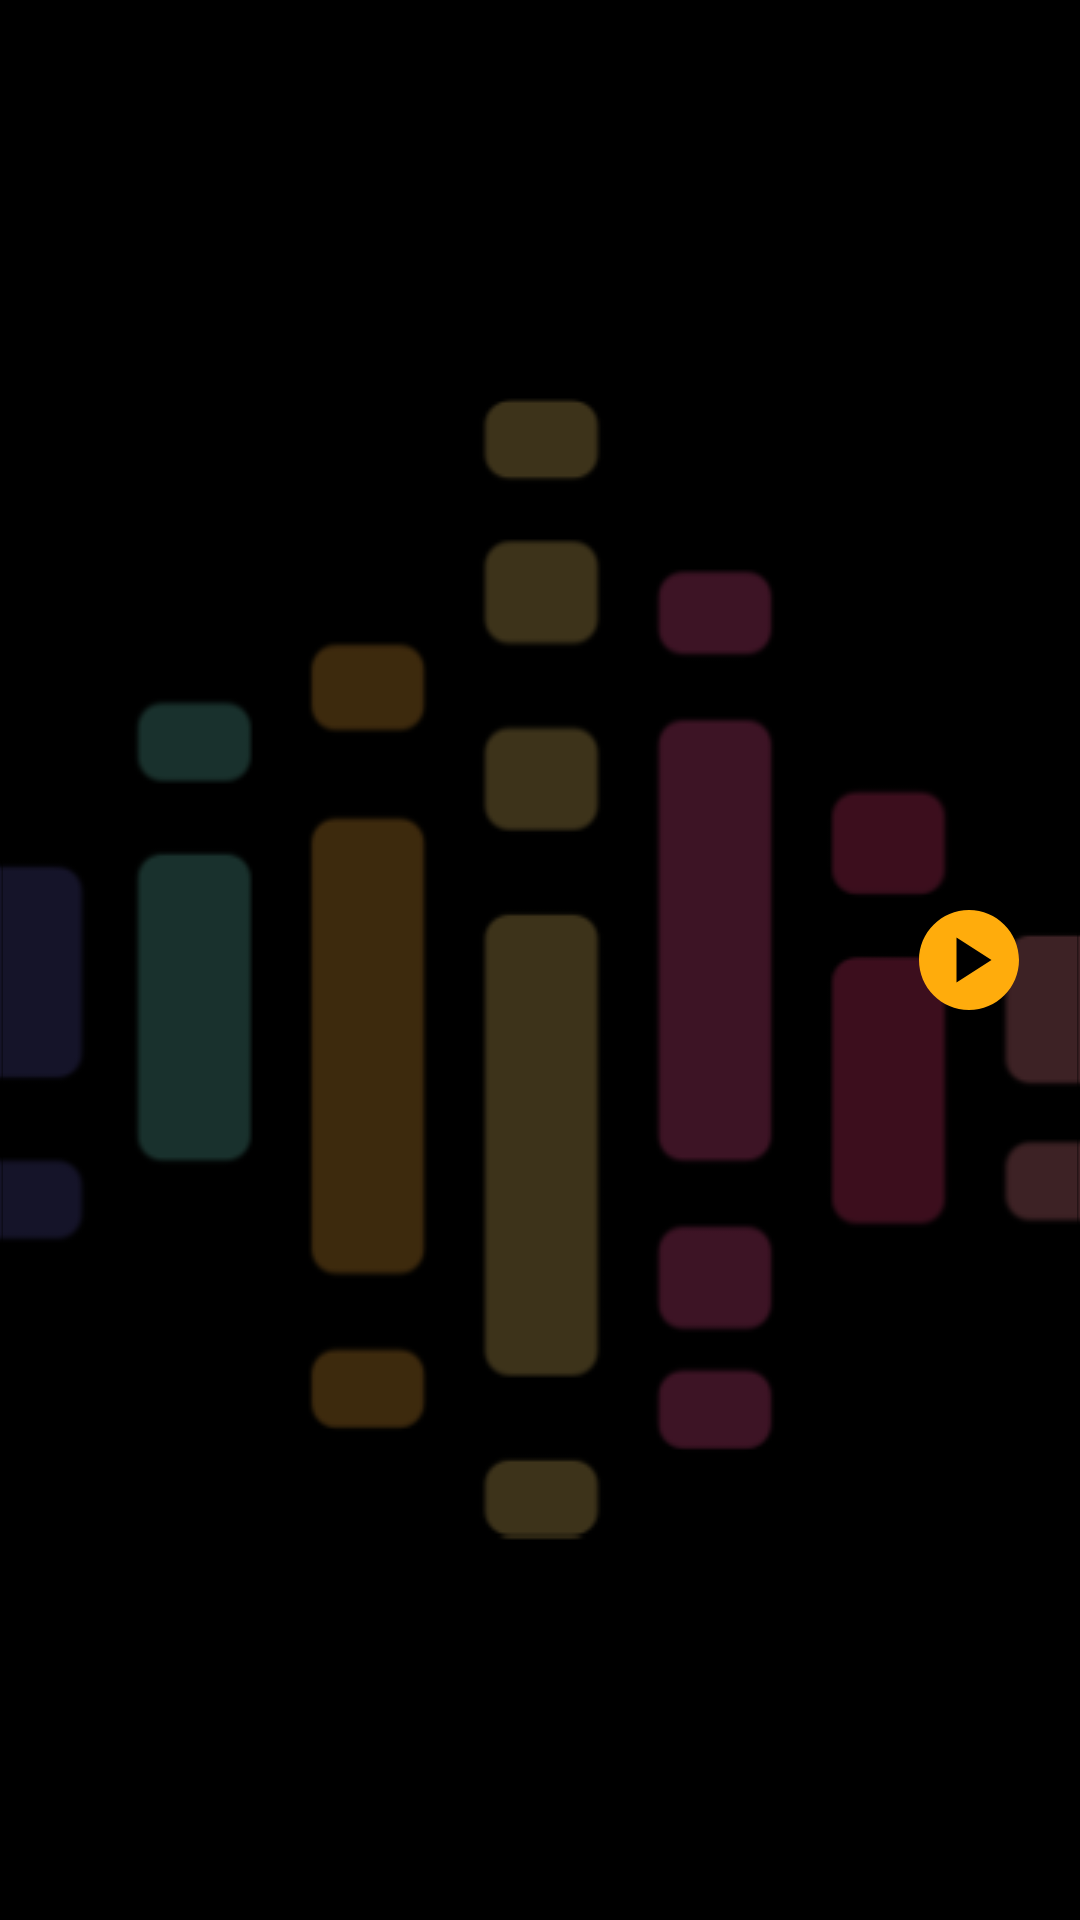

Icon click points for this 1080px×1920px phone screenshot, format [x,y]:
play circle: [969,960]
